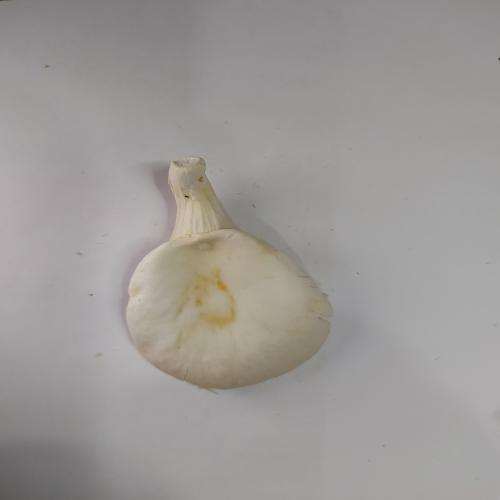Oyster Mushroom: (124, 156, 333, 390)
